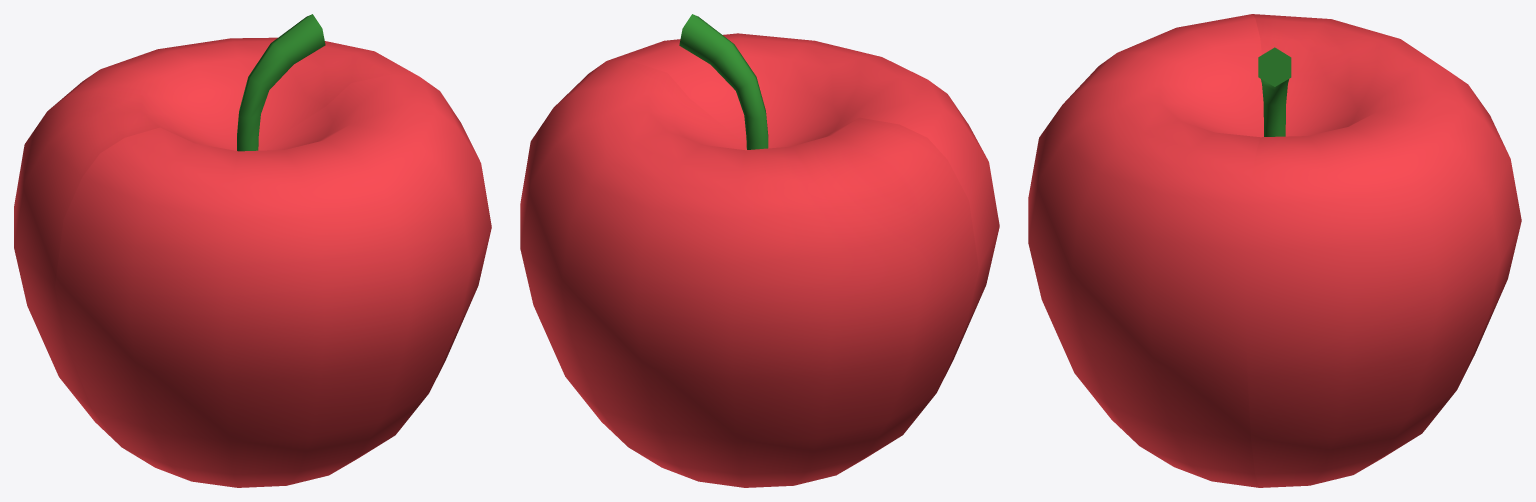
File: apple.FBX
3 renders of one model, left to right at view 1: azimuth 30°, elevation 25°; view 2: azimuth 150°, elevation 25°; view 3: azimuth 270°, elevation 25°, orthographic. The views are drawn at different scales.
Parts seen in each view (by area): view 1: Sphere001; view 2: Sphere001; view 3: Sphere001.
Boxes of the visible parts, <box> form: Sphere001: <box>14,14,491,487</box>; Sphere001: <box>520,14,999,487</box>; Sphere001: <box>1028,14,1521,487</box>.
Bounding box in the file's own units: 116 × 111 × 115.
